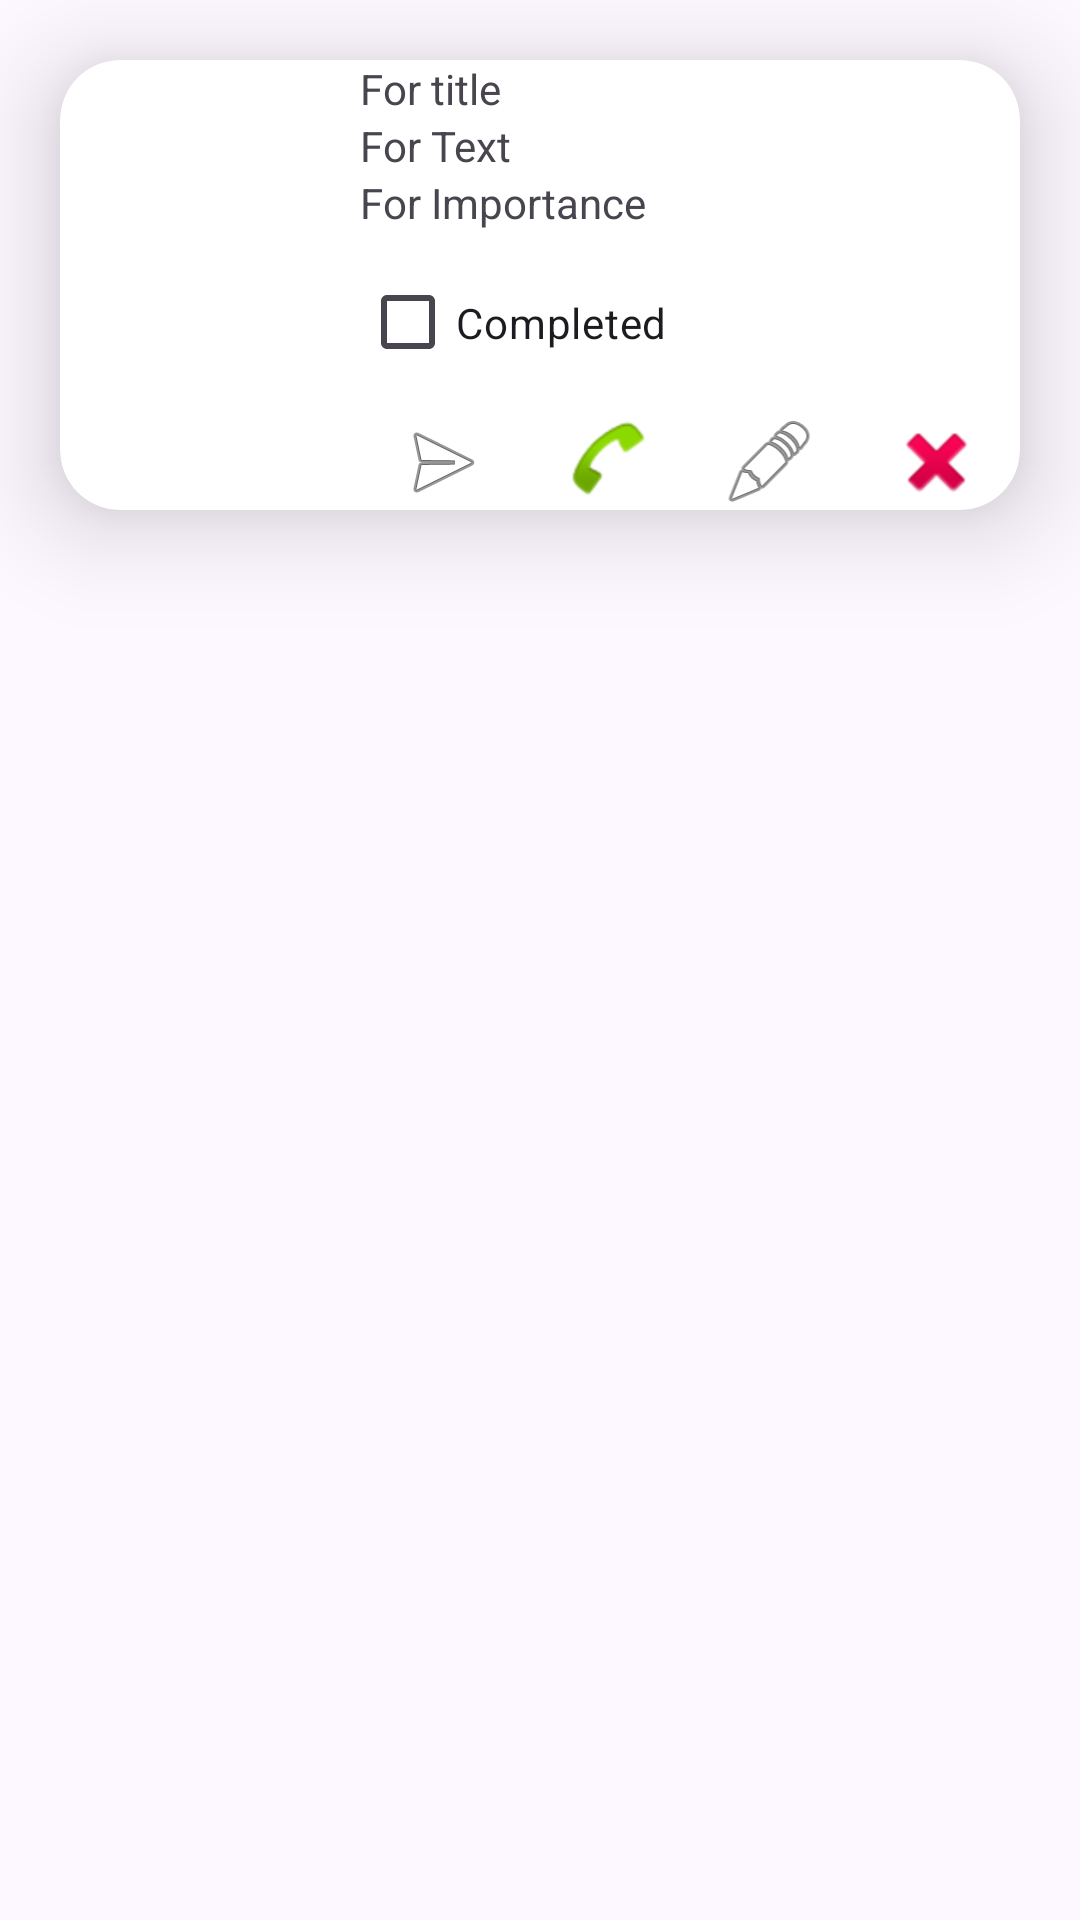

Named icons in this screenshot (1080px×1920px) and their bounding boxes, (x1, y1, x2, y2):
edit: (728, 421, 810, 502)
send: (413, 432, 475, 493)
sym action call: (572, 422, 645, 495)
